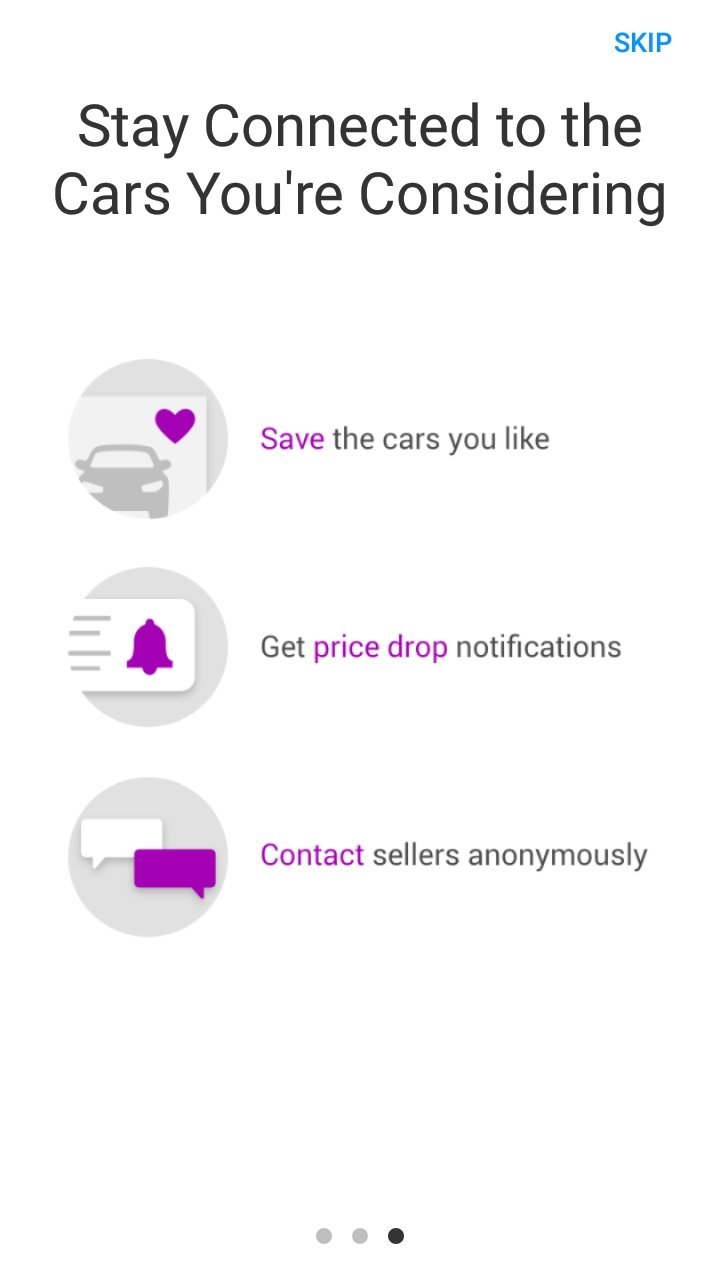Image: (68, 777, 230, 938), (68, 359, 229, 520), (68, 567, 229, 728)
PageIndicator: (316, 1227, 405, 1245)
Text: (55, 102, 665, 228), (261, 841, 649, 873), (261, 633, 622, 665), (260, 425, 550, 457), (614, 32, 672, 54)
